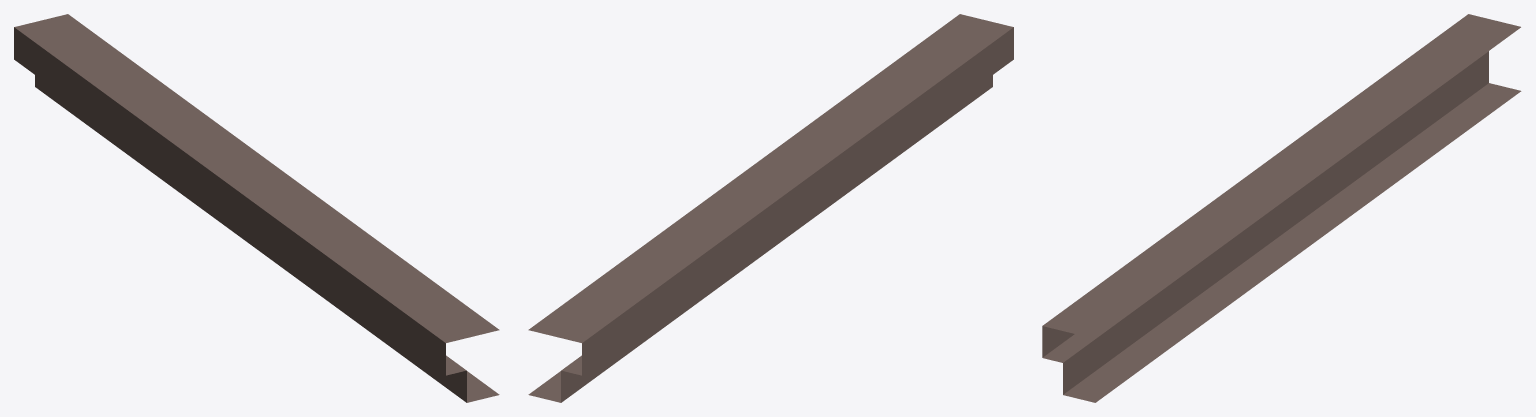
The model's file is Building_carnise_03.fbx.
3 renders of one model, left to right at view 1: azimuth 30°, elevation 25°; view 2: azimuth 150°, elevation 25°; view 3: azimuth 330°, elevation 25°, orthographic.
Parts seen in each view (by area): view 1: Building_carnise_03; view 2: Building_carnise_03; view 3: Building_carnise_03.
Part boxes in pixels (x1,y1,x2,y2): Building_carnise_03: [14, 14, 499, 402]; Building_carnise_03: [528, 14, 1013, 402]; Building_carnise_03: [1042, 14, 1521, 402].
Bounding box in the file's own units: 0.2163 × 0.2485 × 3.
